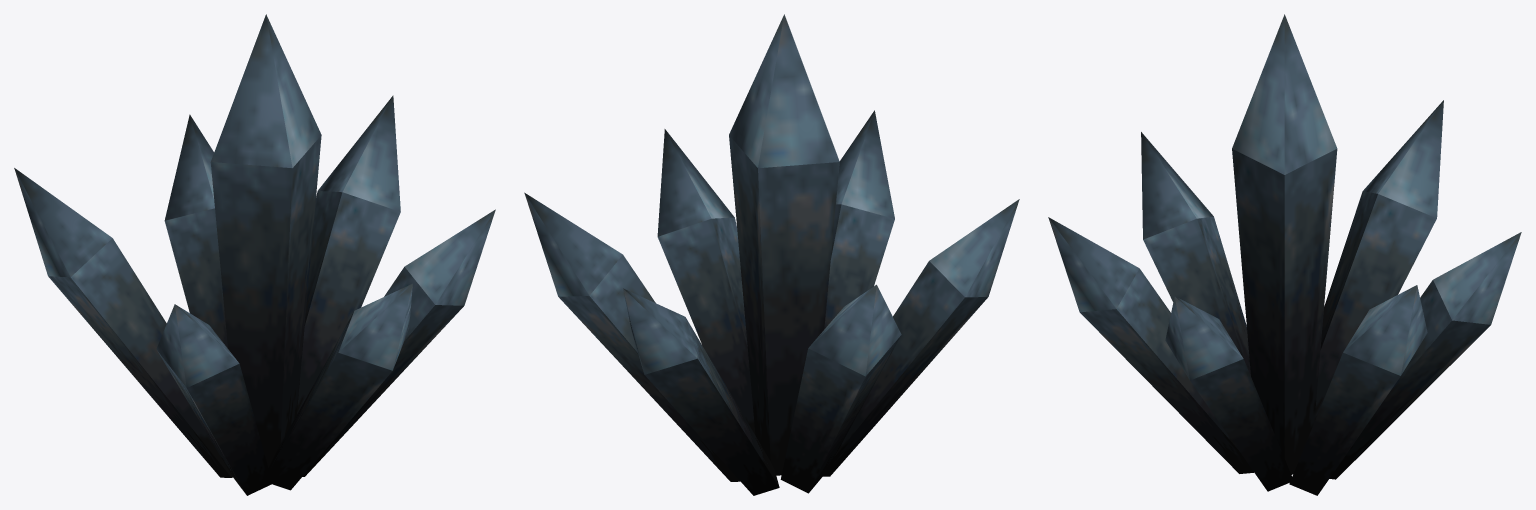
3 renders of one model, left to right at view 1: azimuth 30°, elevation 25°; view 2: azimuth 150°, elevation 25°; view 3: azimuth 270°, elevation 25°, orthographic.
Visible parts, largest first — view 1: wj28; view 2: wj28; view 3: wj28.
Part boxes in pixels (<box>): wj28: <box>14,14,495,495</box>; wj28: <box>524,14,1019,495</box>; wj28: <box>1048,14,1521,495</box>.
Bounding box in the file's own units: 1627 × 1976 × 1829.
Materials: 2 (2 with a texture image).
